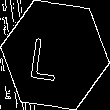L_N: (37, 28, 73, 82)
